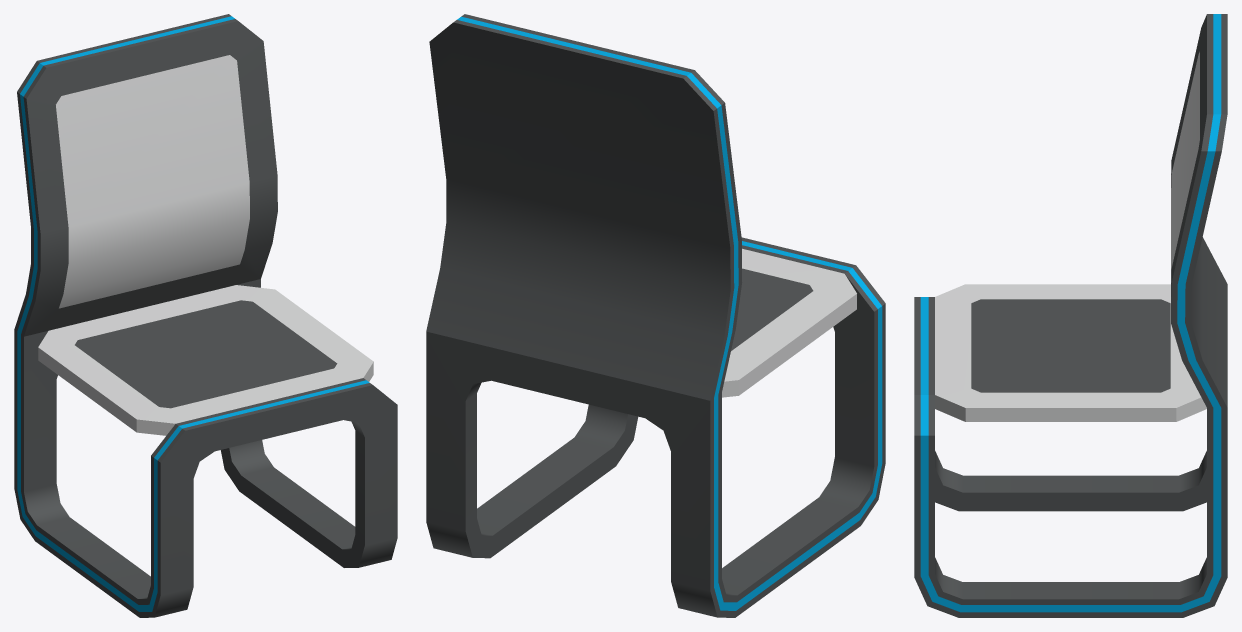
The model's file is Chair_002.fbx.
The picture shows the model from 3 angles, left to right: view 1: azimuth 30°, elevation 25°; view 2: azimuth 150°, elevation 25°; view 3: azimuth 270°, elevation 25°; orthographic projection. The views are drawn at different scales.
Visible parts, largest first — view 1: Chair_002; view 2: Chair_002; view 3: Chair_002.
Part boxes in pixels (x1,y1,x2,y2): Chair_002: (14, 14, 397, 617); Chair_002: (426, 14, 885, 617); Chair_002: (914, 14, 1227, 617).
Size of the model in its own units: 52.6 by 56.24 by 97.46.
